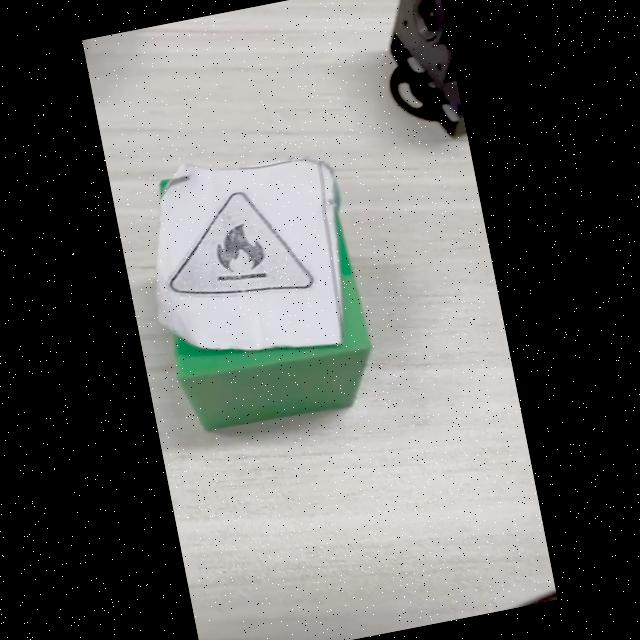Fire: (169, 192, 314, 296)
